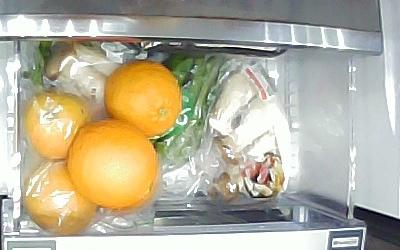orange: (69, 120, 157, 210), (106, 60, 181, 137)
orange_vinyl: (25, 160, 96, 235), (26, 92, 89, 162)
